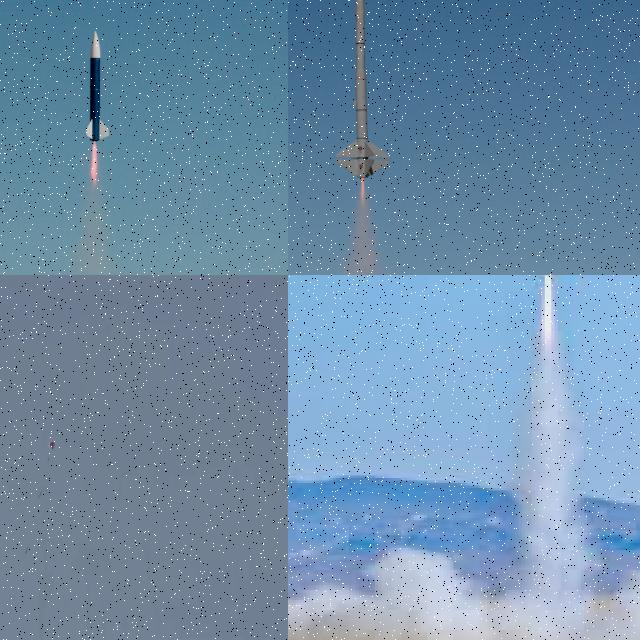Rocket: (334, 0, 392, 179), (85, 30, 110, 142), (25, 546, 29, 554)
